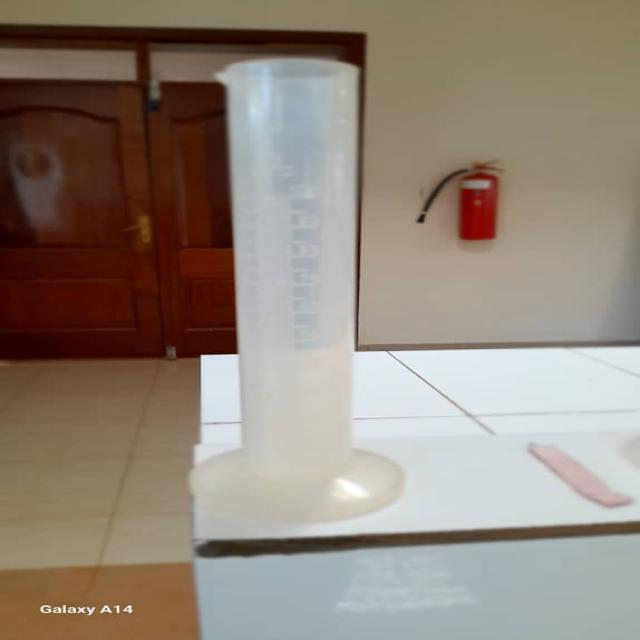Measuring Cylinder: (191, 55, 402, 524)
